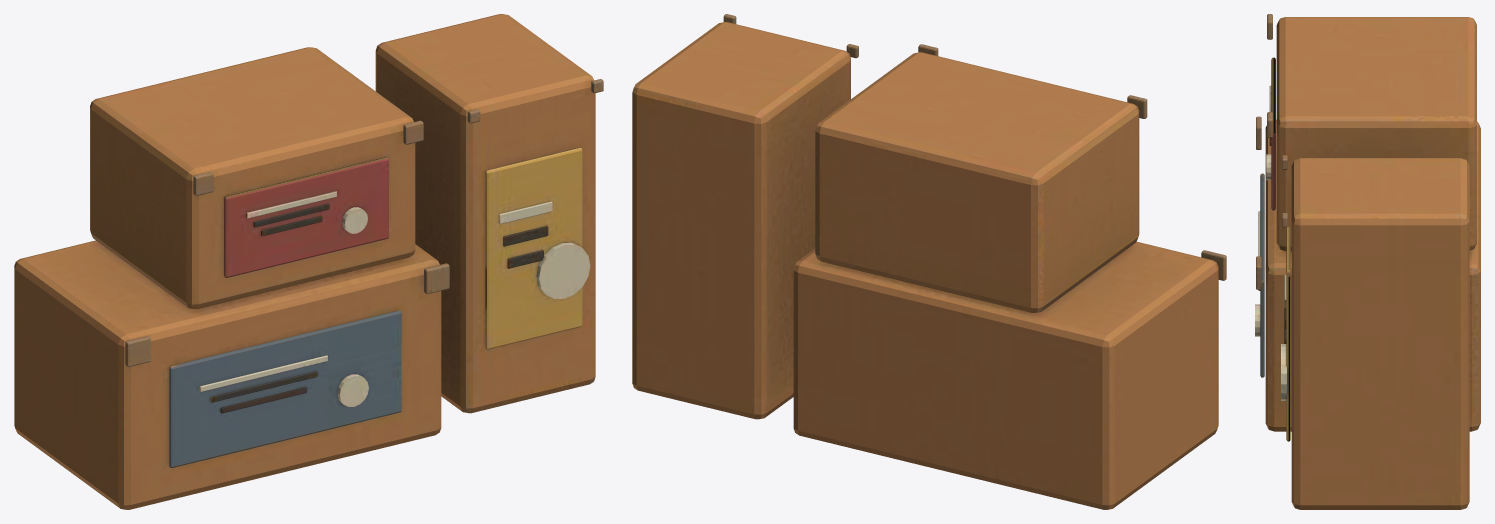
File: shelfwall-boxstack-a.glb
The picture shows the model from 3 angles, left to right: view 1: azimuth 30°, elevation 25°; view 2: azimuth 150°, elevation 25°; view 3: azimuth 270°, elevation 25°; orthographic projection. The views are drawn at different scales.
Visible parts, largest first — view 1: case-baked; view 2: case-baked; view 3: case-baked.
Boxes of the visible parts, x1,y1,x2,y2 form: case-baked: (14, 14, 603, 509); case-baked: (632, 14, 1226, 509); case-baked: (1255, 14, 1480, 509).
Size of the model in its own units: 0.73 by 0.454 by 0.304.
Materials: 1 (1 with a texture image).
